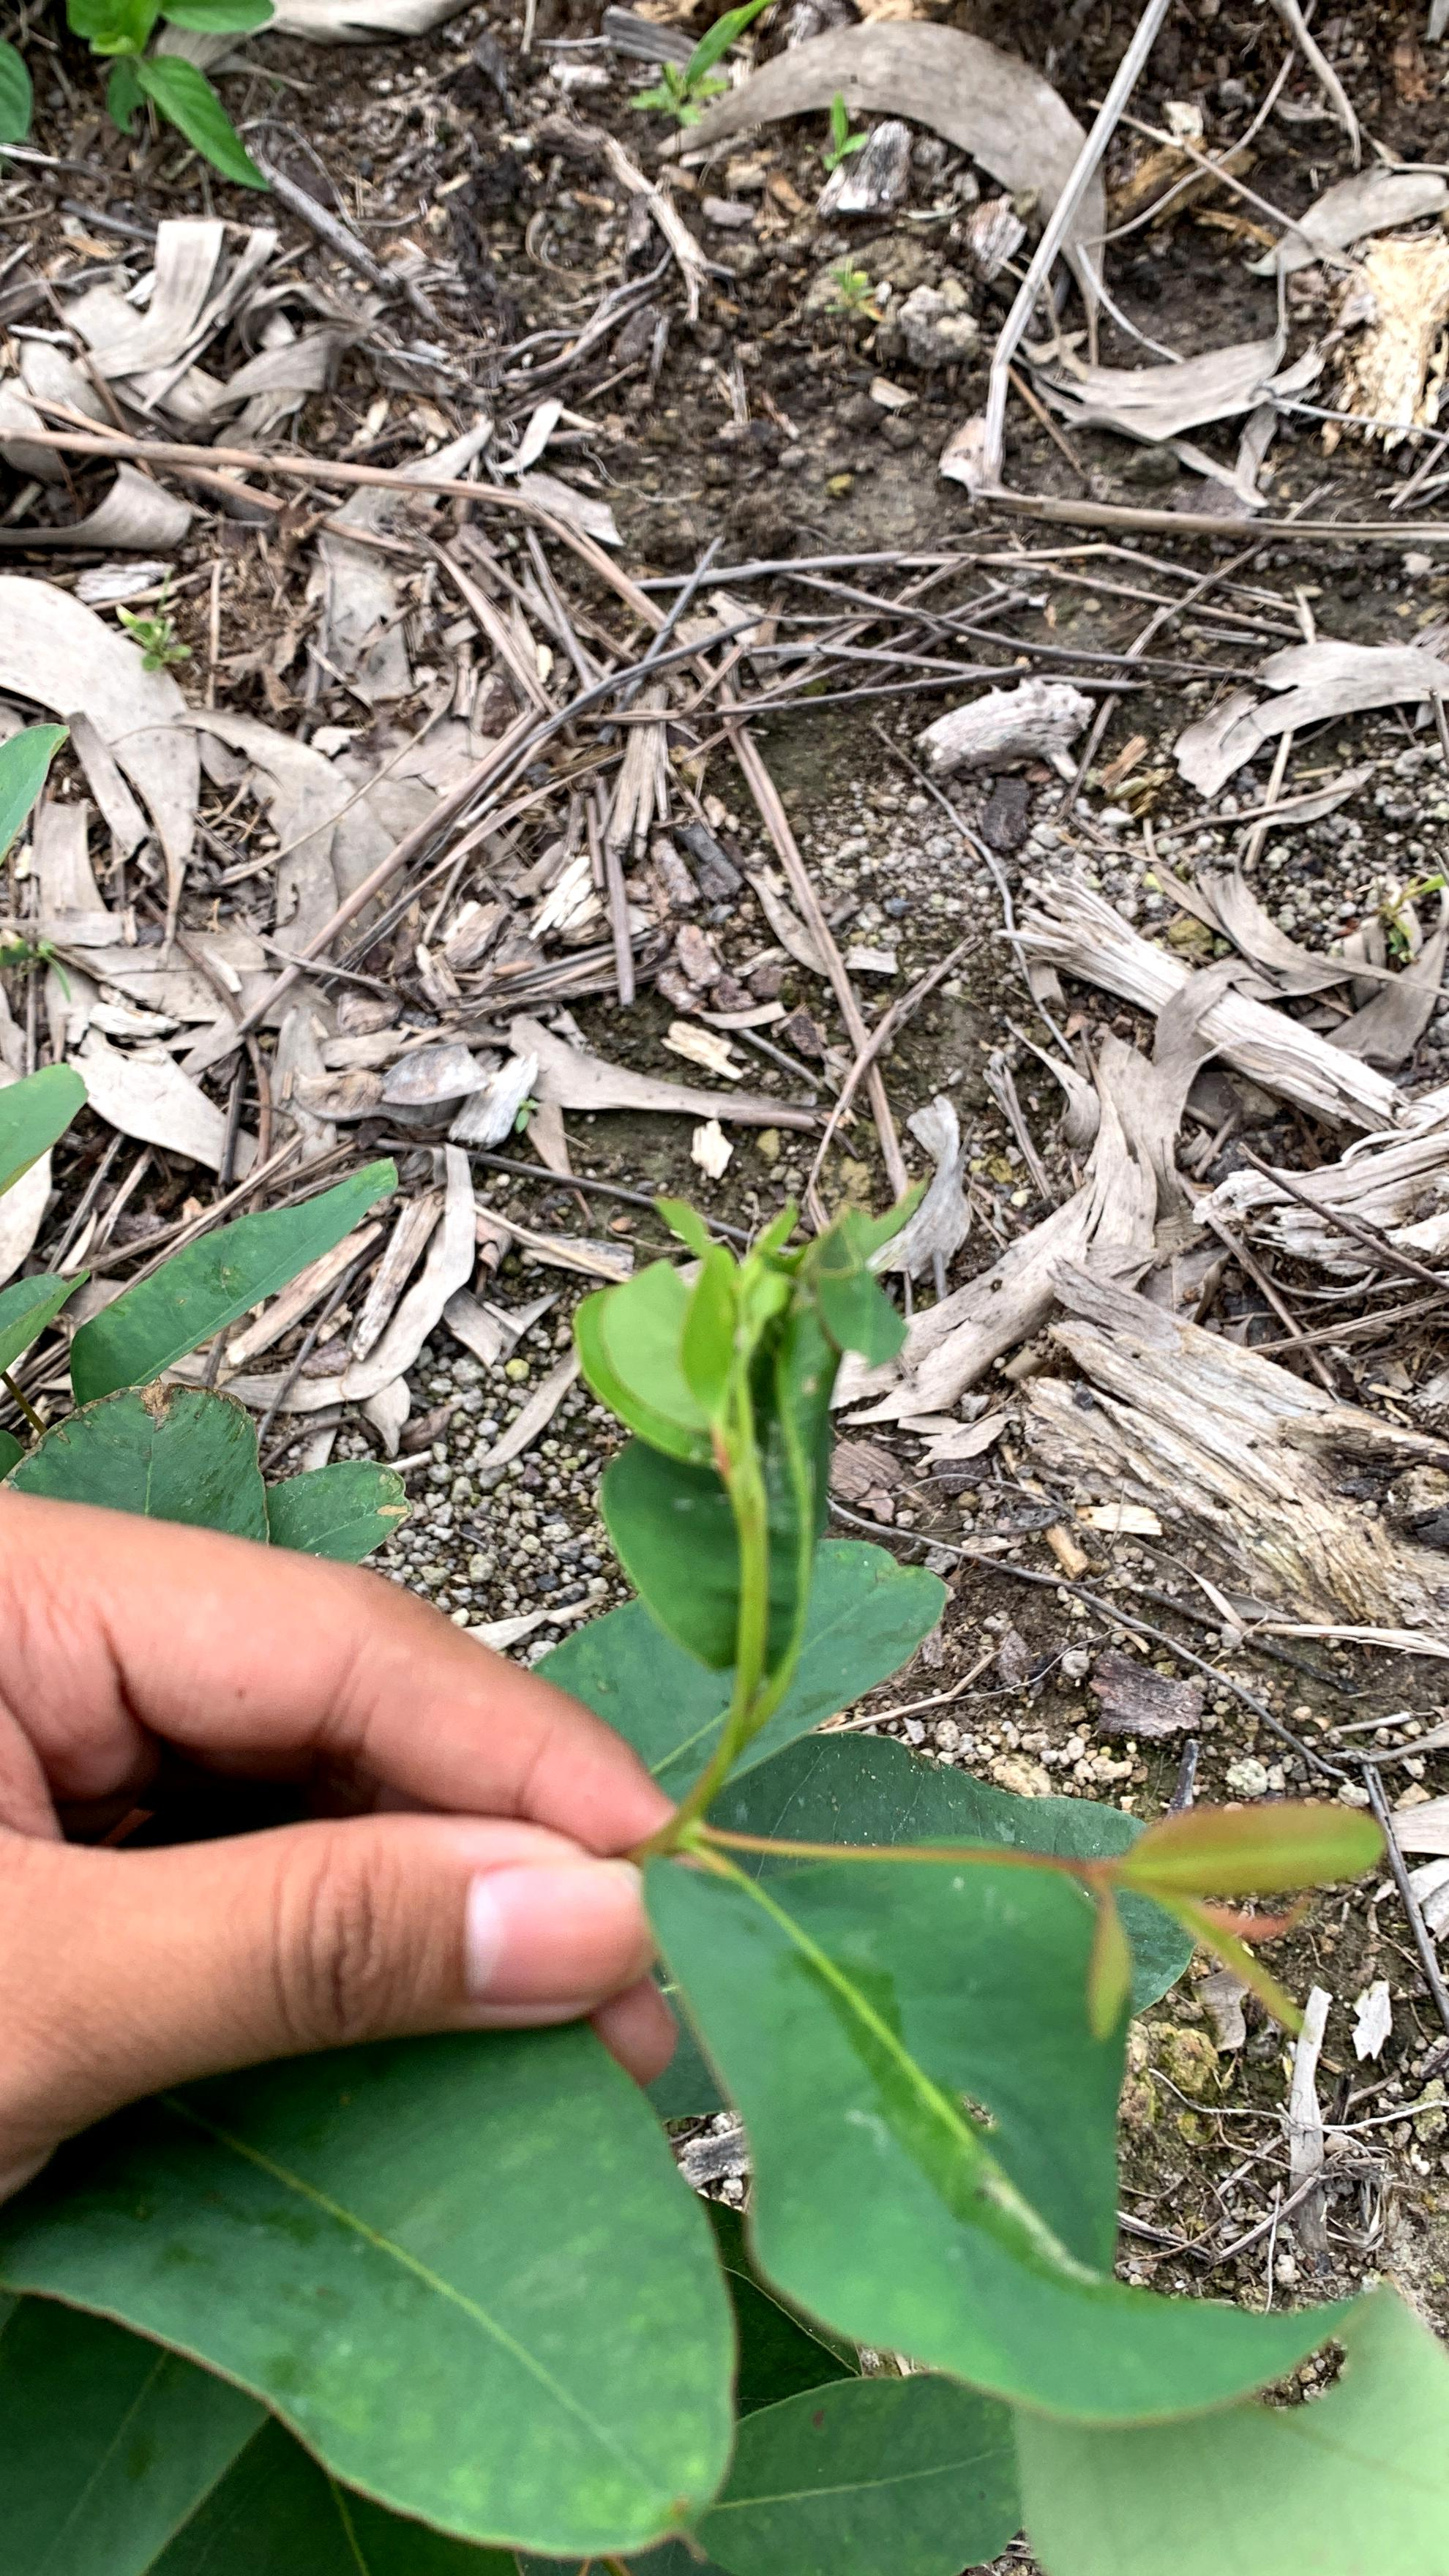Leaf Roller - Leaf: (564, 1182, 879, 1683)
